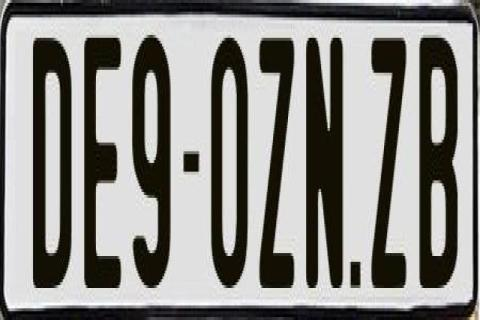0: (207, 29, 248, 282), (130, 32, 168, 296)
B: (419, 32, 462, 294)
D: (30, 29, 74, 282)
E: (84, 32, 122, 282)
N: (304, 35, 344, 288)
Z: (370, 35, 412, 299), (258, 38, 296, 306)
